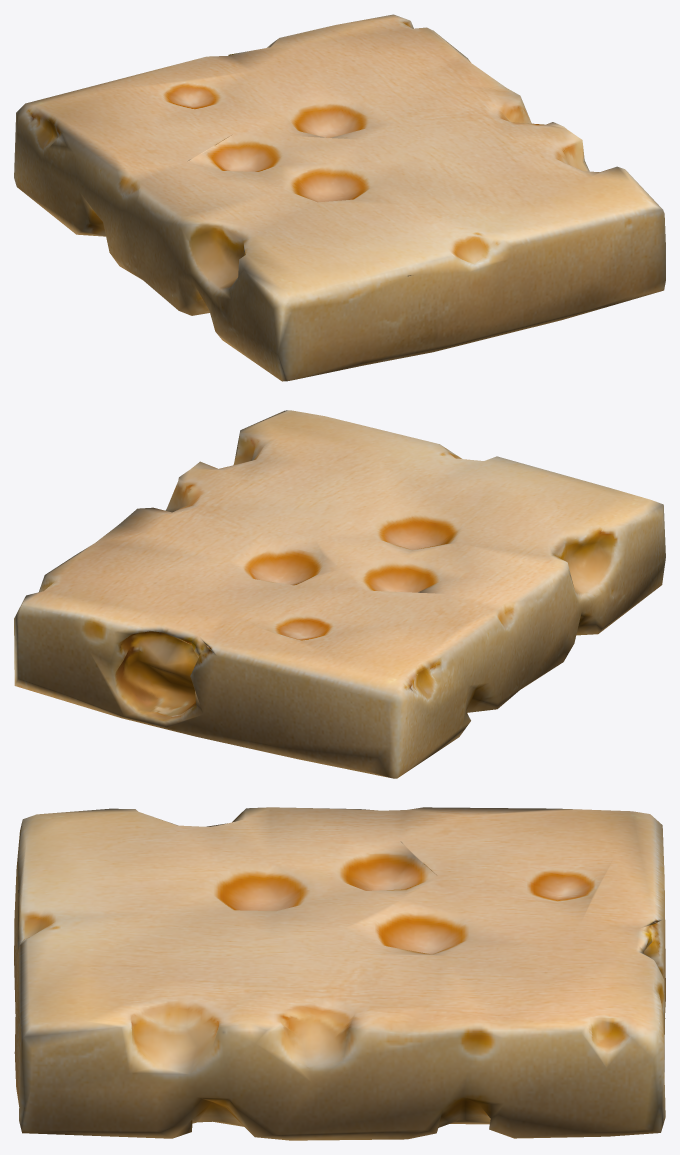
The model's file is Food_CheeseSlice.fbx.
The picture shows the model from 3 angles, top to bottom: view 1: azimuth 30°, elevation 25°; view 2: azimuth 150°, elevation 25°; view 3: azimuth 270°, elevation 25°; orthographic projection. The views are drawn at different scales.
Parts seen in each view (by area): view 1: Food_CheeseSlice; view 2: Food_CheeseSlice; view 3: Food_CheeseSlice.
Part boxes in pixels (bbox=[...]): Food_CheeseSlice: bbox=[14, 14, 665, 381]; Food_CheeseSlice: bbox=[14, 410, 665, 778]; Food_CheeseSlice: bbox=[14, 807, 665, 1140].
Size of the model in its own units: 0.215 by 0.0551 by 0.26.
Materials: 1 (1 with a texture image).
